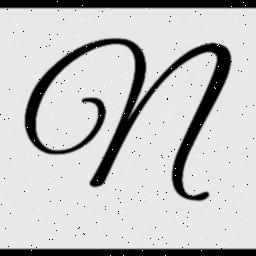n: (14, 12, 236, 210)
